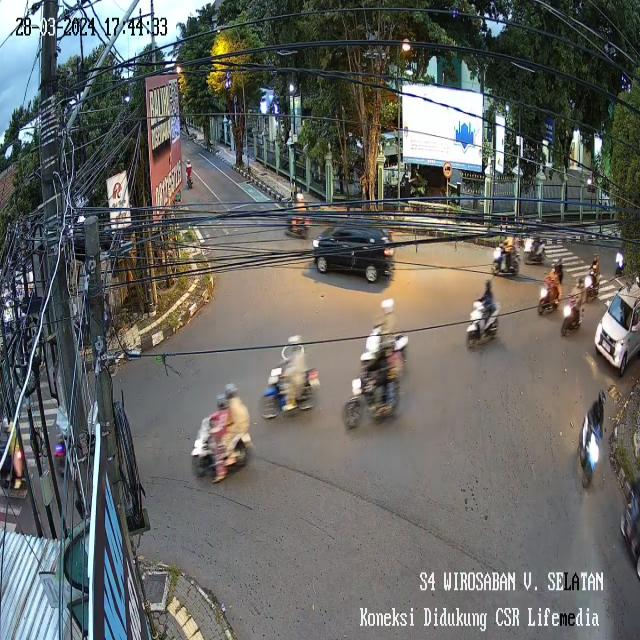car: (310, 201, 397, 294), (590, 275, 640, 380)
motorcycle: (187, 404, 253, 488), (260, 353, 324, 428), (341, 366, 407, 435), (358, 316, 413, 372), (574, 404, 604, 495), (463, 295, 504, 355), (534, 271, 562, 325), (488, 244, 526, 283), (555, 295, 579, 346), (283, 204, 313, 242), (522, 228, 548, 268), (580, 263, 600, 304), (611, 243, 626, 274), (183, 166, 194, 194)
